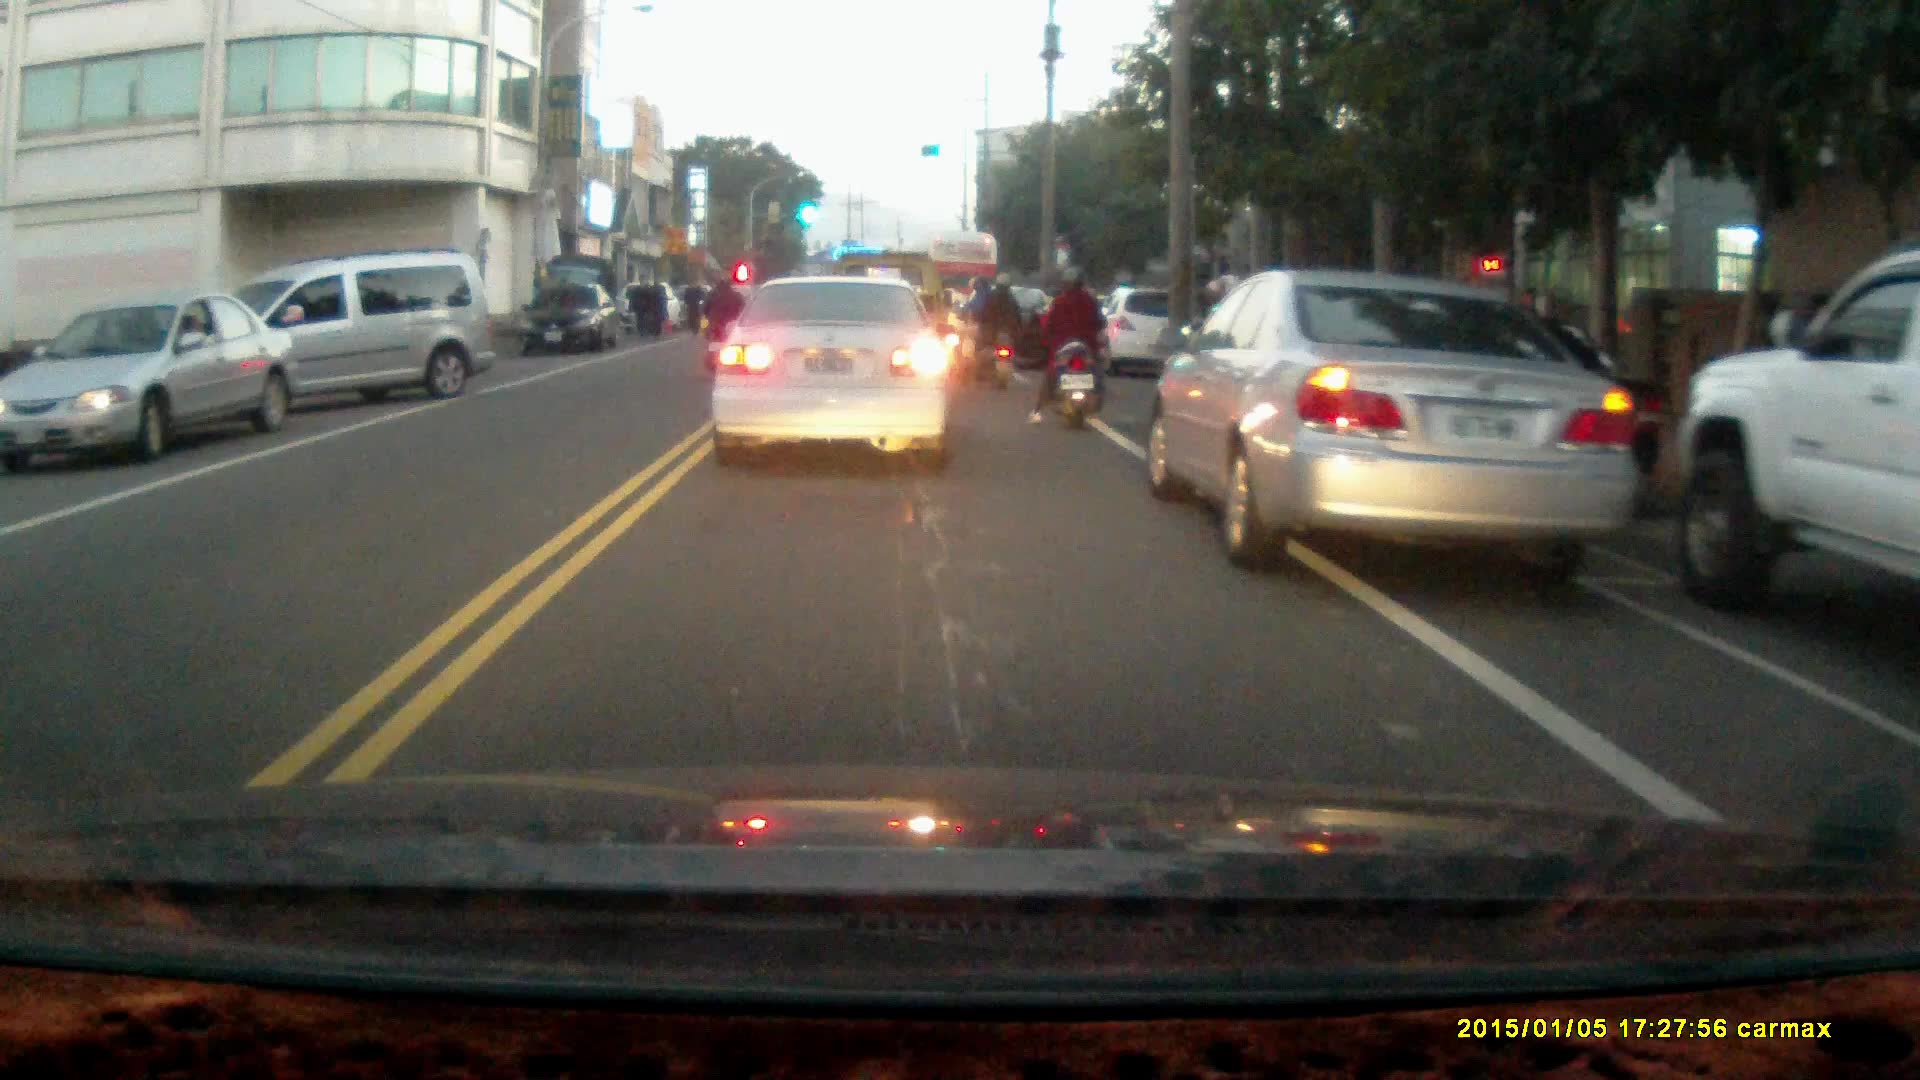pedestrian: (627, 271, 653, 339), (679, 274, 707, 337), (645, 270, 665, 343)
rider: (1024, 264, 1112, 433), (955, 268, 1024, 389), (700, 270, 744, 379)
vehicle: (1142, 264, 1631, 575), (1670, 249, 1920, 615), (180, 252, 501, 428), (1, 294, 292, 473), (708, 274, 956, 472), (521, 281, 621, 356)
